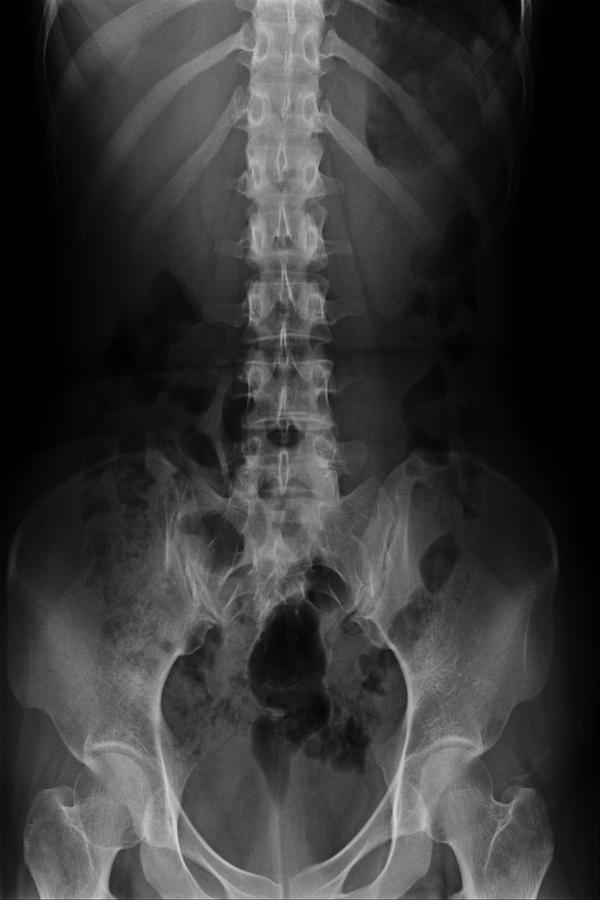not lumbar scoliosis: (231, 160, 341, 532)
